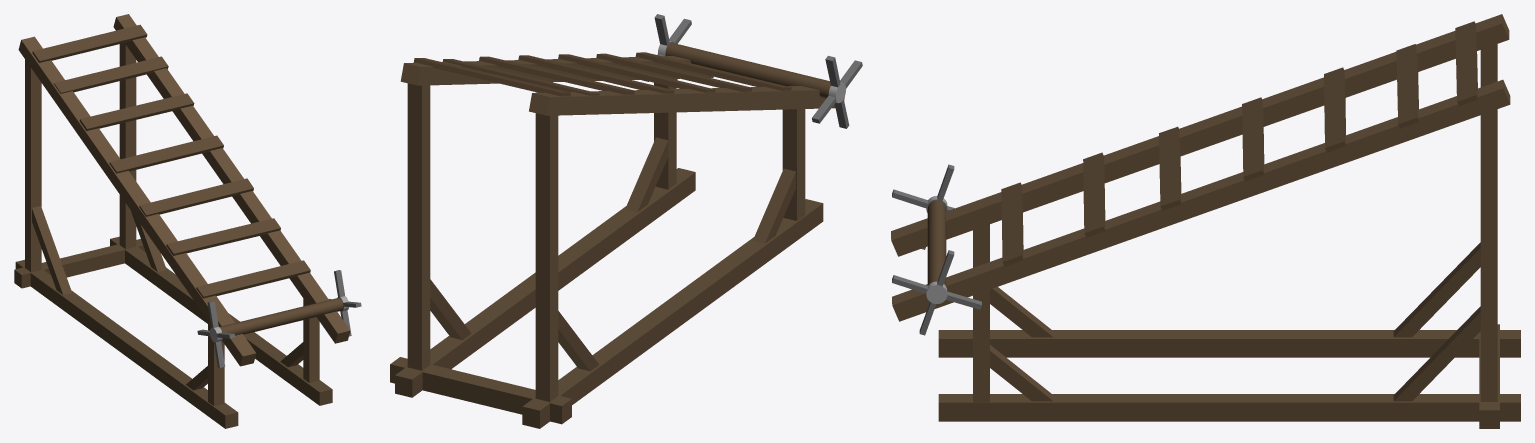
The model's file is Torture Device.glb.
3 views of the same model, side by side, from view 1: azimuth 30°, elevation 25°; view 2: azimuth 150°, elevation 25°; view 3: azimuth 270°, elevation 25° (orthographic). The views are drawn at different scales.
Parts seen in each view (by area): view 1: Torture Device; view 2: Torture Device; view 3: Torture Device.
Part boxes in pixels (x1,y1,x2,y2): Torture Device: (14, 14, 361, 428); Torture Device: (390, 14, 862, 428); Torture Device: (891, 14, 1520, 428).
Bounding box in the file's own units: 0.5 × 0.8735 × 1.49.
